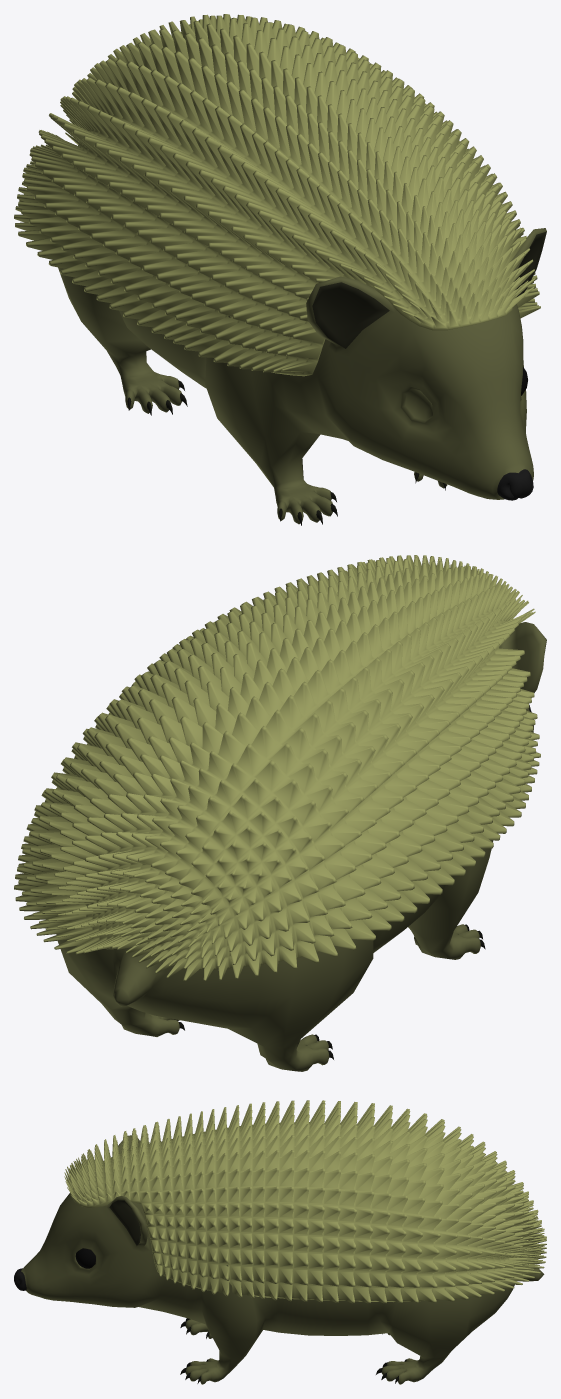
File: hedgehog.obj
3 renders of one model, top to bottom at view 1: azimuth 30°, elevation 25°; view 2: azimuth 150°, elevation 25°; view 3: azimuth 270°, elevation 25°, orthographic. The views are drawn at different scales.
Visible parts, largest first — view 1: spikes, hedgehog; view 2: spikes, hedgehog; view 3: spikes, hedgehog.
Boxes of the visible parts, <box> form: spikes: <box>14,14,540,376</box>; hedgehog: <box>58,228,546,525</box>; spikes: <box>14,555,540,980</box>; hedgehog: <box>56,622,546,1071</box>; spikes: <box>64,1100,546,1303</box>; hedgehog: <box>14,1135,544,1384</box>.
Size of the model in its own units: 0.1027 by 0.1022 by 0.2041.
